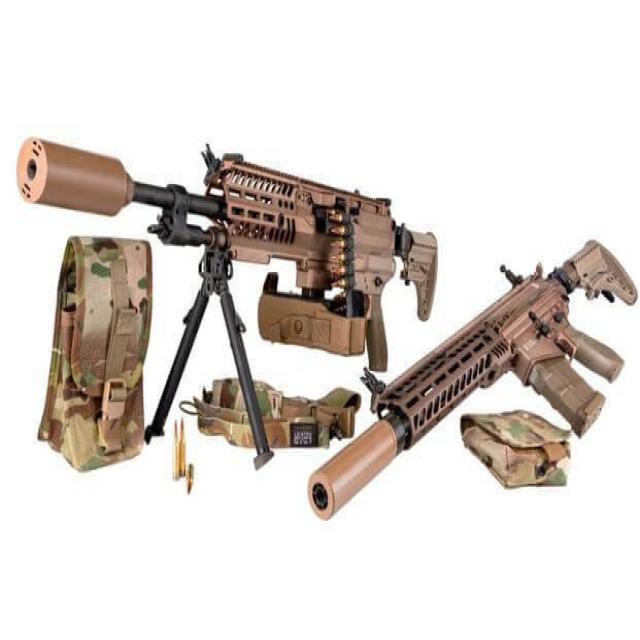weapon: (15, 122, 434, 464), (312, 238, 639, 530)
